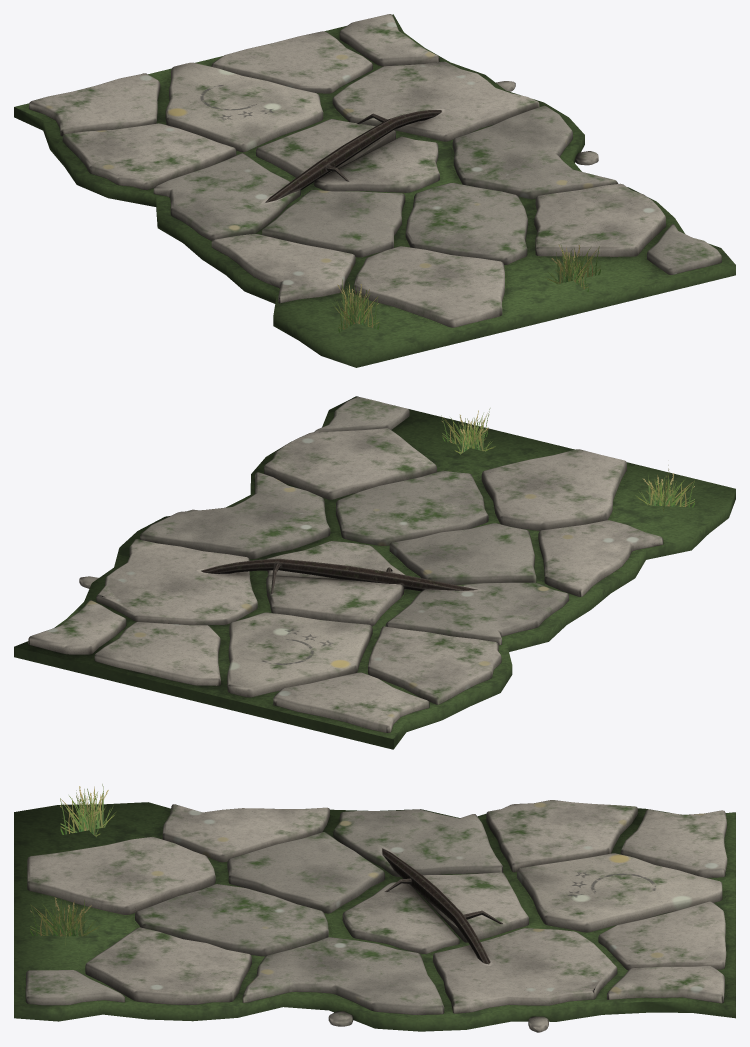
File: PathFlagstone.fbx
3 renders of one model, top to bottom at view 1: azimuth 30°, elevation 25°; view 2: azimuth 150°, elevation 25°; view 3: azimuth 270°, elevation 25°, orthographic. The views are drawn at different scales.
Parts seen in each view (by area): view 1: PathFlagstone_Main, PathFlagstone_Leaves; view 2: PathFlagstone_Main, PathFlagstone_Leaves; view 3: PathFlagstone_Main, PathFlagstone_Leaves.
Part boxes in pixels (x1,y1,x2,y2): PathFlagstone_Main: (14, 14, 735, 367); PathFlagstone_Leaves: (332, 244, 600, 332); PathFlagstone_Main: (14, 396, 735, 749); PathFlagstone_Leaves: (441, 408, 694, 511); PathFlagstone_Main: (14, 800, 735, 1032); PathFlagstone_Leaves: (30, 784, 115, 945).
Bounding box in the file's own units: 739 × 88.08 × 1020.
